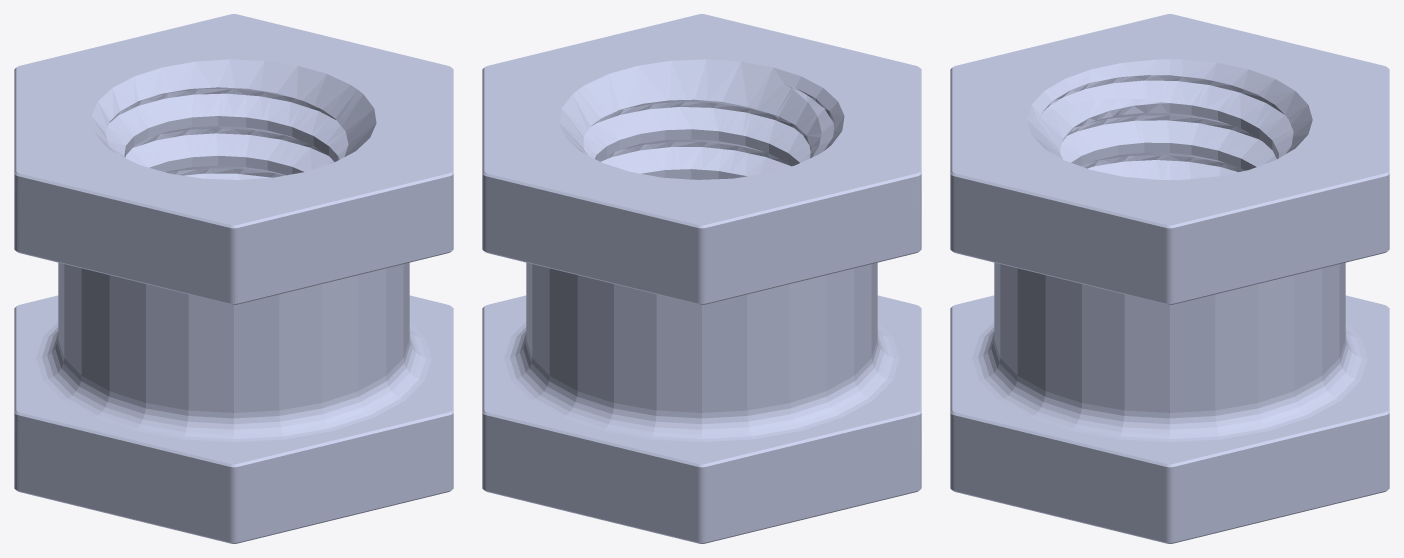
File: T200_02_T200STEP_T200STEPSTEP_T200_NOZZLESTEPSTEP_T200STEP1_04_T200STEP1.obj
The picture shows the model from 3 angles, left to right: view 1: azimuth 30°, elevation 25°; view 2: azimuth 150°, elevation 25°; view 3: azimuth 270°, elevation 25°; orthographic projection.
Size of the model in its own units: 0.0115 by 0.008 by 0.01.
